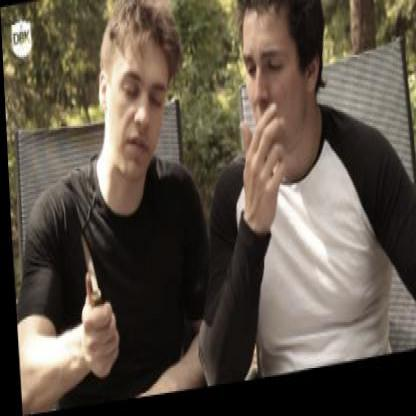knife: (68, 220, 122, 362)
